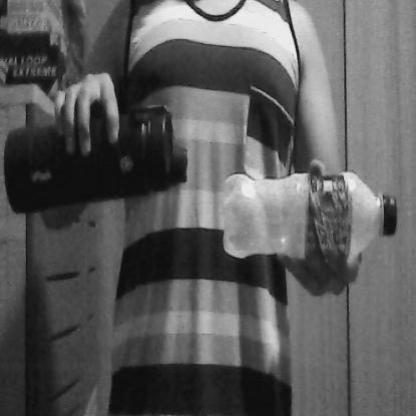Plastic Bottle: (216, 150, 403, 282)
